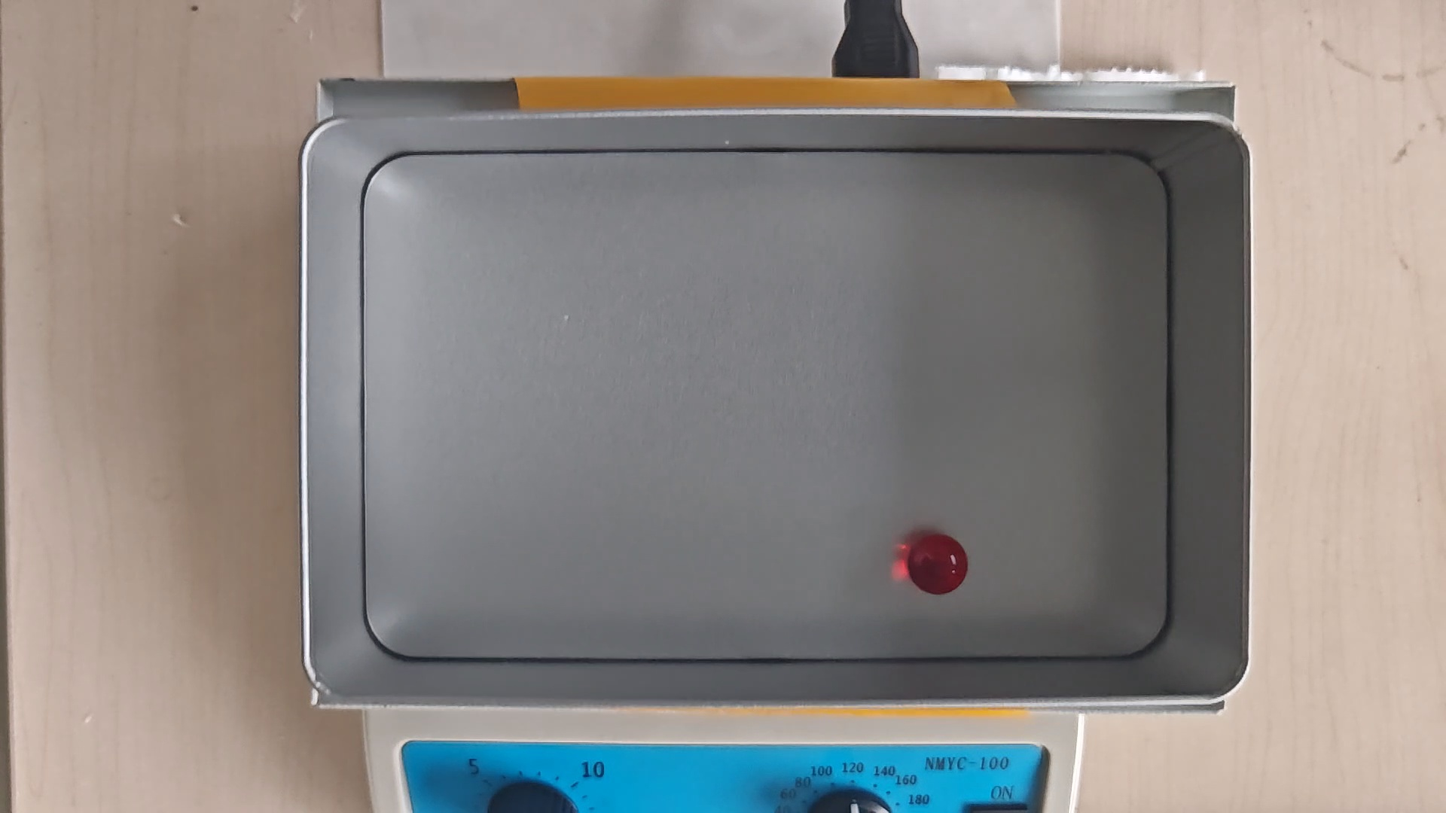ball: (905, 532, 969, 595)
container: (362, 152, 1169, 659)
